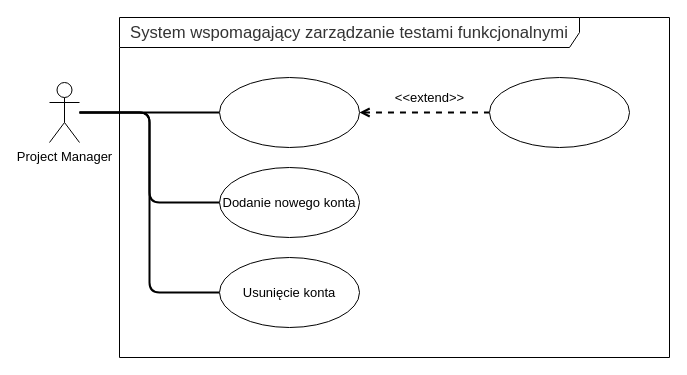
This 687x375 diagram has some shape labels left out. The box of each missing label's shape, as (x1, y1, x2, y2) in pixels:
Drukowanie raportu: (488, 76, 630, 148)
Przygotowanie raportu: (218, 76, 360, 148)
